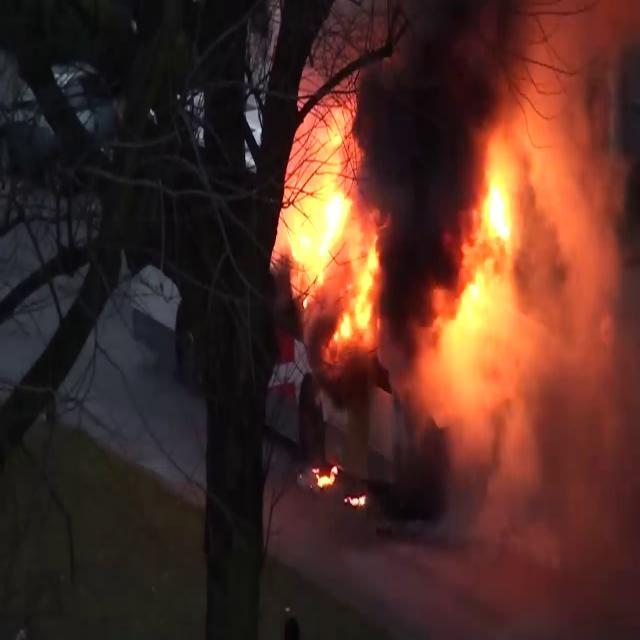Fire: (419, 99, 579, 444), (272, 97, 390, 354)
Smoke: (520, 13, 640, 560)
